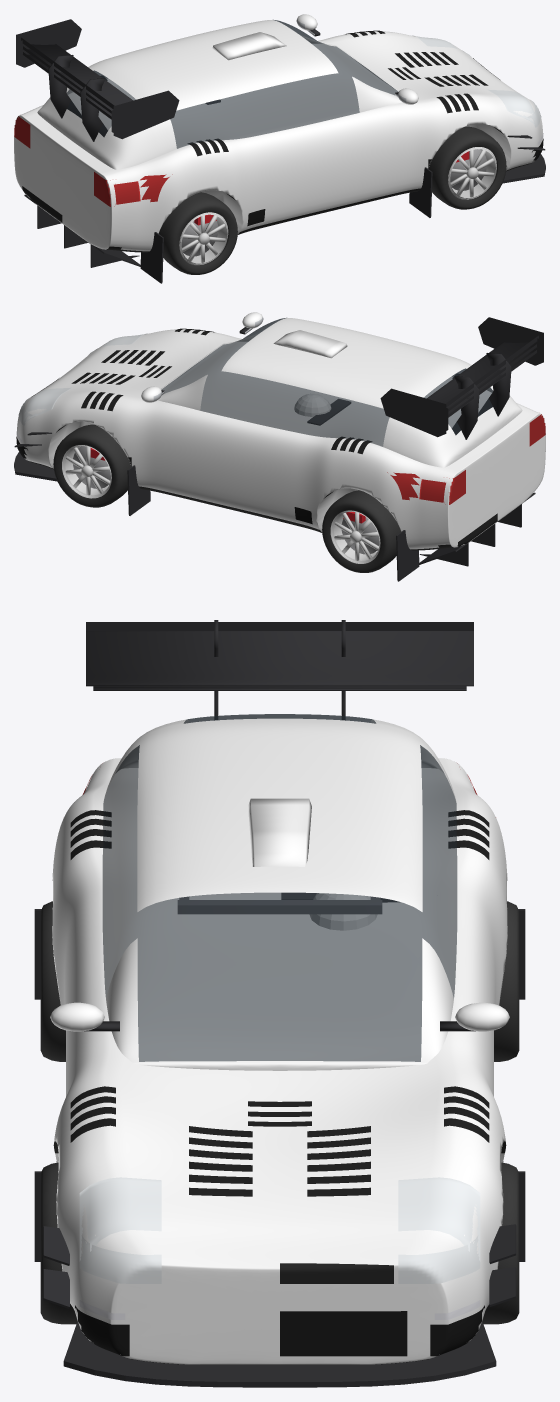
File: volkswagen_polo_r_supercar.glb
The picture shows the model from 3 angles, top to bottom: view 1: azimuth 30°, elevation 25°; view 2: azimuth 150°, elevation 25°; view 3: azimuth 270°, elevation 25°; orthographic projection. The views are drawn at different scales.
Parts seen in each view (by area): view 1: body, cabin, bumper_rear, wing_rear_up3, wheel_fr_spin, wheel_rr_spin, bumper_front, mudflaps, diffuser, wing_rear_up2, wing_rear, splitter_up (+1 smaller); view 2: body, cabin, bumper_rear, wing_rear_up3, wheel_fl_spin, wheel_rl_spin, bumper_front, mudflaps, diffuser, interior, wing_rear_up2, wing_rear (+2 smaller); view 3: body, cabin, bumper_front, wing_rear_up3, splitter_up, splitter, interior, canards, wheel_rl_spin, wheel_rr_spin, mudflaps, wheel_fl_spin (+6 smaller).
Part boxes in pixels (x1,y1,x2,y2): body: (68, 30, 511, 252); cabin: (37, 19, 401, 169); bumper_rear: (14, 105, 140, 251); wing_rear_up3: (16, 19, 179, 141); wheel_fr_spin: (428, 126, 506, 209); wheel_rr_spin: (158, 192, 237, 274); bumper_front: (412, 35, 543, 170); mudflaps: (140, 167, 432, 283); diffuser: (24, 194, 140, 267); wing_rear_up2: (18, 33, 113, 129); wing_rear: (18, 40, 113, 132); splitter_up: (502, 154, 545, 183); body: (48, 328, 491, 550); cabin: (158, 317, 522, 467); bumper_rear: (419, 403, 545, 549); wing_rear_up3: (380, 317, 543, 439); wheel_fl_spin: (53, 424, 131, 507); wheel_rl_spin: (322, 490, 401, 572); bumper_front: (16, 333, 147, 468); mudflaps: (127, 465, 419, 581); diffuser: (419, 492, 535, 566); interior: (294, 393, 351, 425); wing_rear_up2: (446, 331, 541, 428); wing_rear: (446, 337, 541, 430); body: (52, 777, 507, 1303); cabin: (102, 714, 457, 1070); bumper_front: (62, 1177, 497, 1364); wing_rear_up3: (86, 620, 473, 719); splitter_up: (63, 1321, 496, 1387); splitter: (71, 1330, 488, 1376); interior: (177, 892, 399, 930); canards: (43, 1224, 516, 1308); wheel_rl_spin: (494, 901, 519, 1061); wheel_rr_spin: (40, 901, 65, 1061); mudflaps: (34, 909, 525, 1261); wheel_fl_spin: (482, 1162, 519, 1324).
Bounding box in the file's own units: 4.15 × 1.63 × 1.96.
